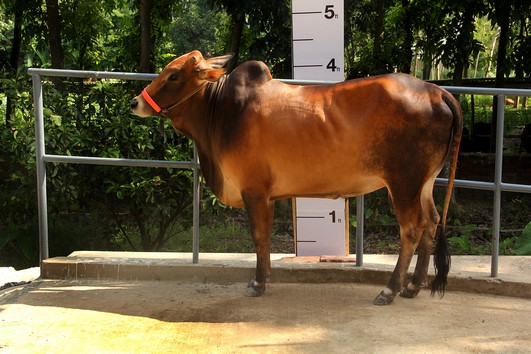cow: (125, 41, 472, 309)
